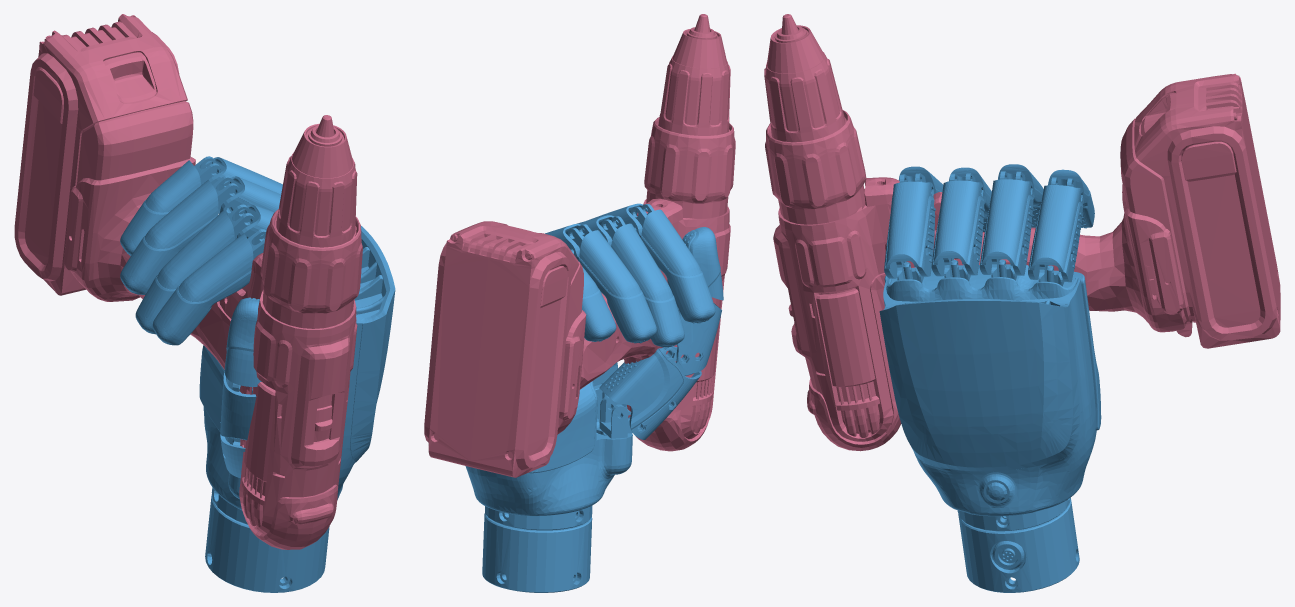
3 views of the same model, side by side, from view 1: azimuth 30°, elevation 25°; view 2: azimuth 150°, elevation 25°; view 3: azimuth 270°, elevation 25° (orthographic). The views are drawn at different scales.
Visible parts, largest first — view 1: 0; view 2: 0; view 3: 0.
Part boxes in pixels (box(x1,y1,x2,y2)): 0: box(14, 14, 395, 592); 0: box(424, 14, 735, 592); 0: box(764, 14, 1280, 592).
Size of the model in its own units: 0.1149 by 0.256 by 0.2262.
